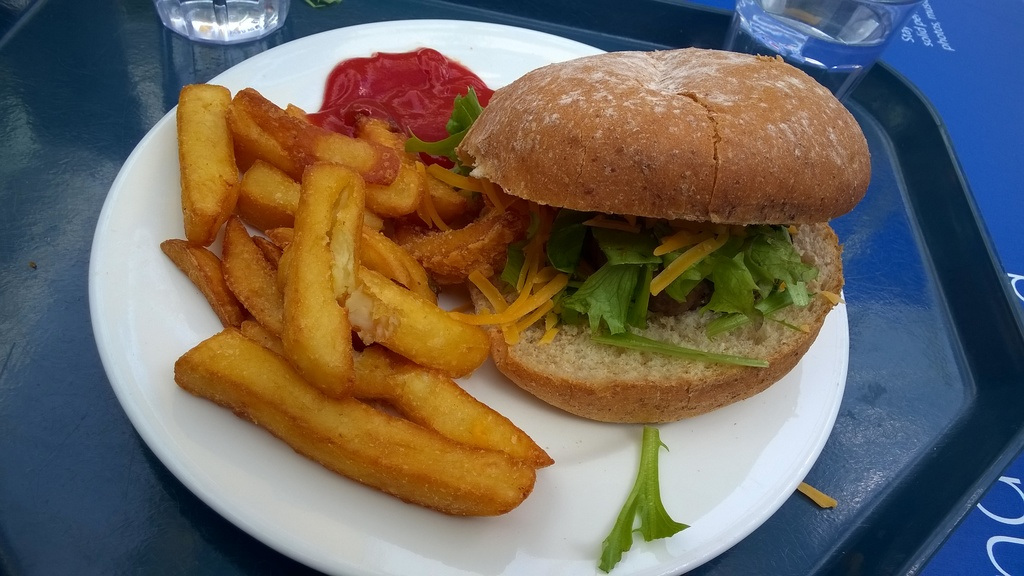French fries: (168, 62, 554, 523)
